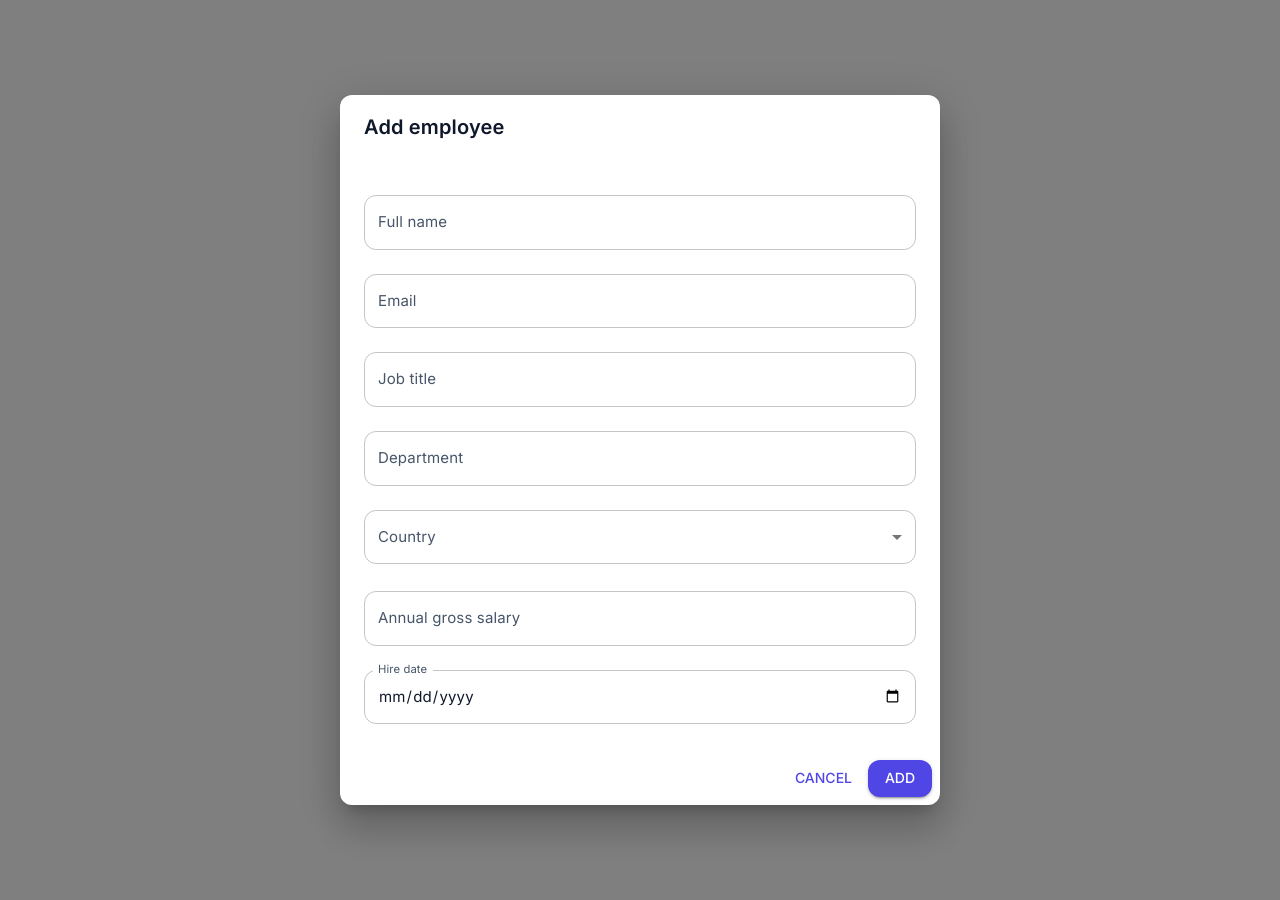
Test case: EmployeeFormDialog: add mode › shows the currency and decimal hint once a country is picked
The width and height of the screenshot is (1280, 900).
Click the dropdown named "country" at point(640, 537), box [364,510,916,564]
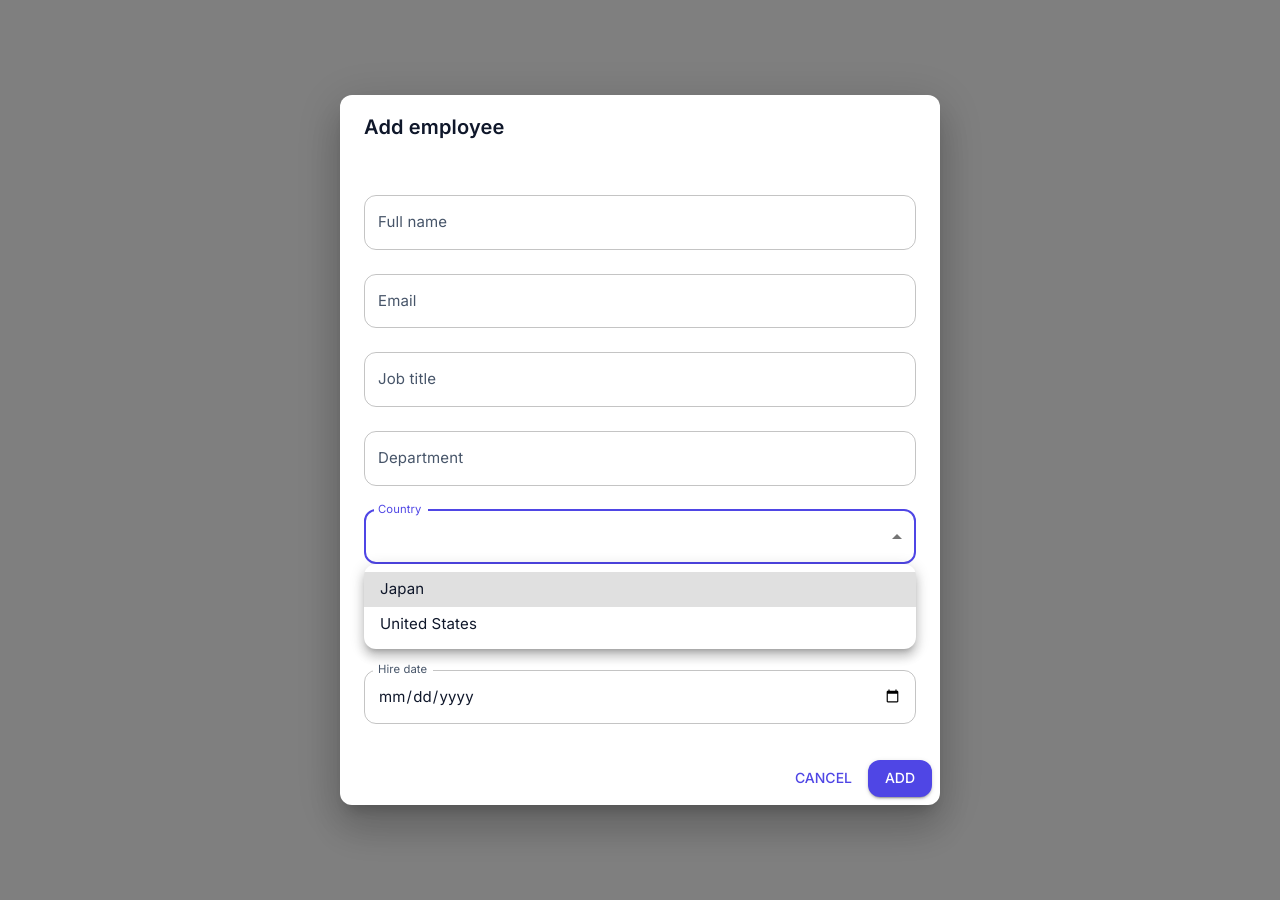
Click the option "Japan" at point(402, 588), box [364,572,916,606]
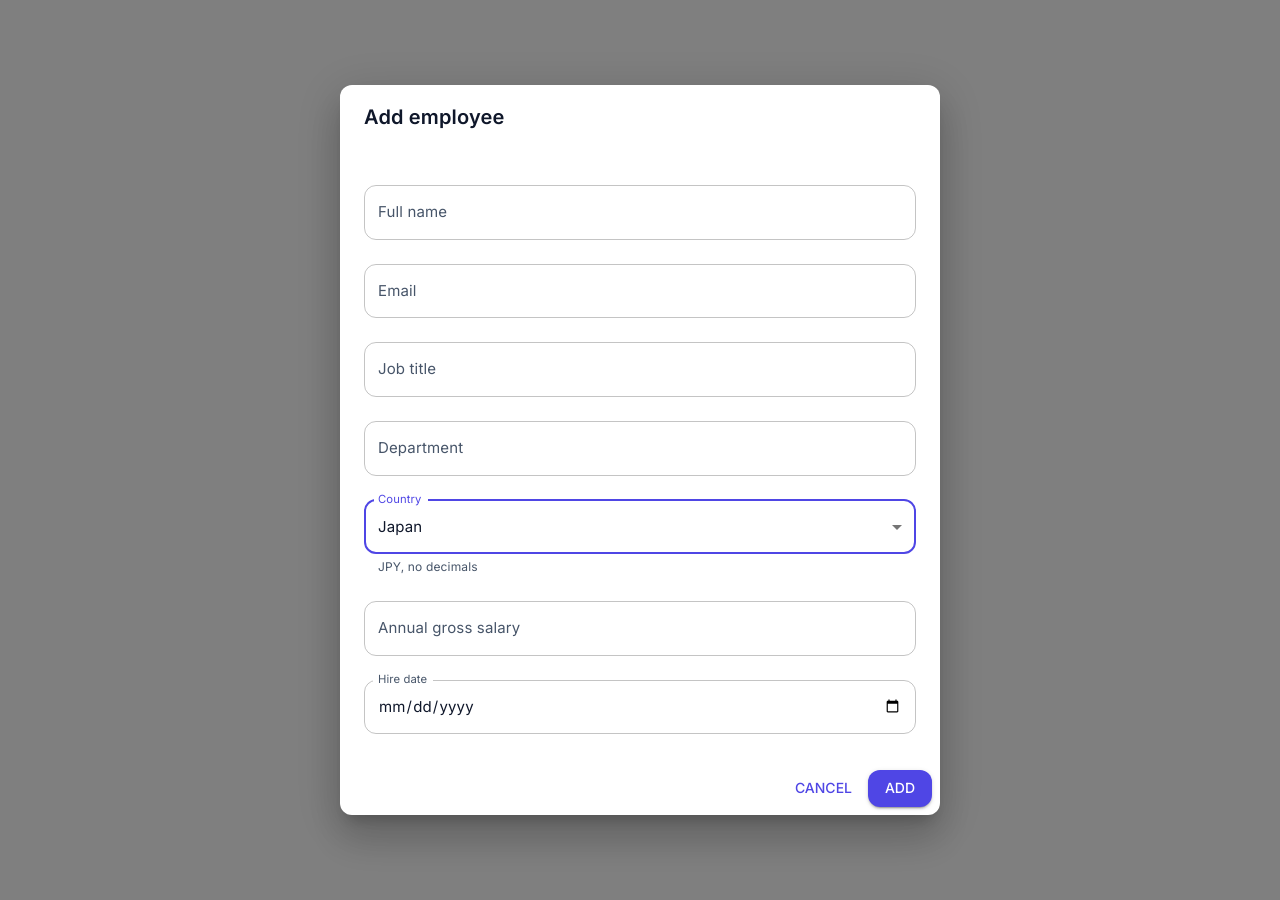
Now the text "JPY, no decimals" is shown, box [378,559,478,574]
